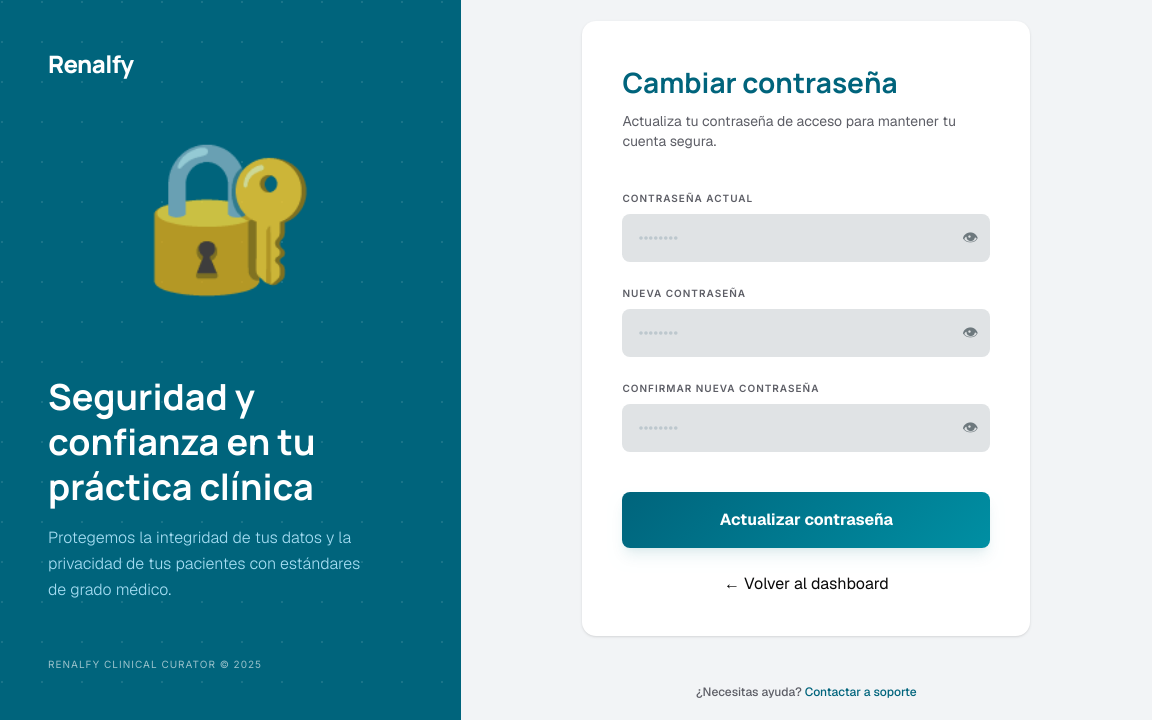
Test: ChangePasswordPage › shows the password strength indicator when typing a new password
Type "abc" into the password field labelled "Nueva contraseña" at (806, 332), box [622,308,990,356]
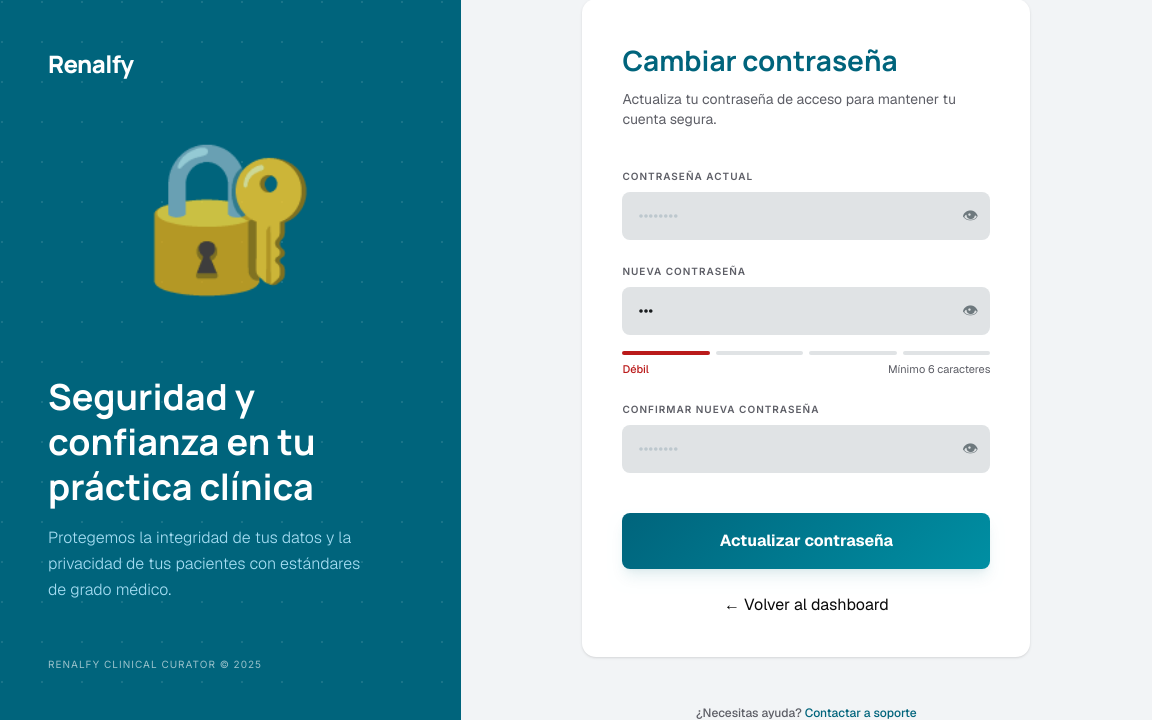
Check: the text "Débil" is shown, box [622,361,649,378]
